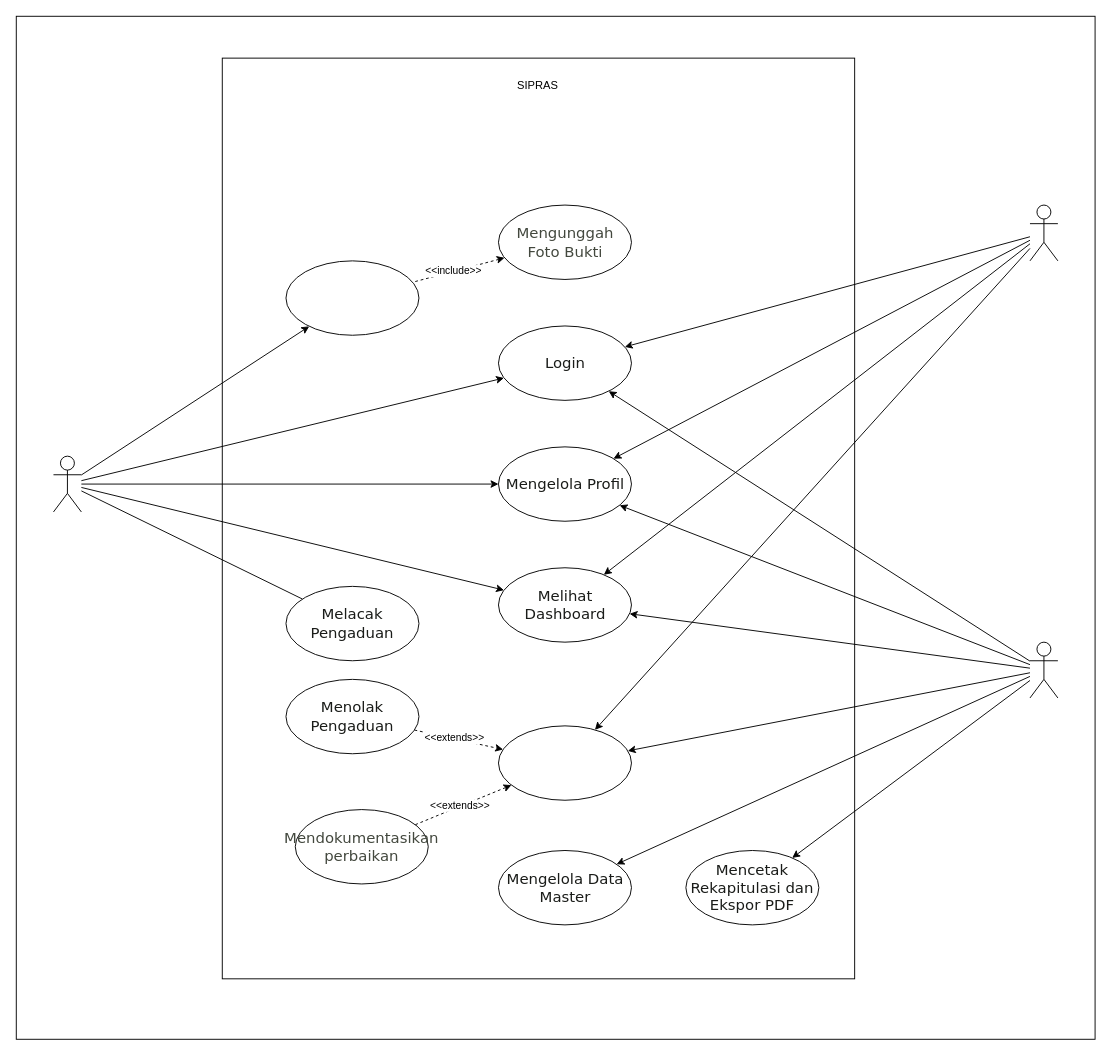
Image size: 1111x1056. Some labels were removed from this diagram. The shapes that lost their labels are listed below. From the top down, each one's centre as x and y in pixels, then its label:
(1043,232): Teknisi
(352,297): Membuat Pengaduan
(67,483): Siswa
(1043,669): Admin
(564,762): Memperbarui Status Pengaduan
